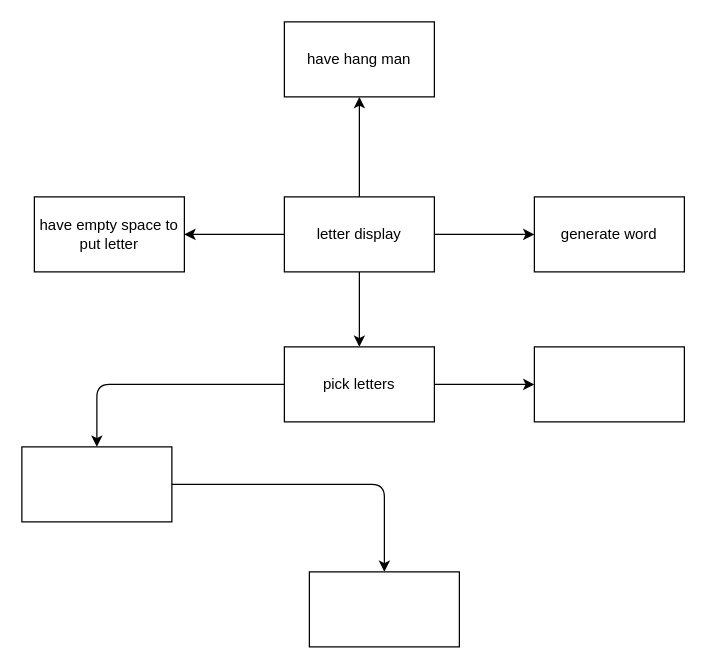
Some shapes in this 706 by 669 pixel diagram are drawn without their labels. Here are the shapes that lost their labels. From the top down, the centre of each, then its label:
At (x=608, y=384): "if letter is wrong change hangman".
At (x=96, y=484): "if letter is correct put it in".
